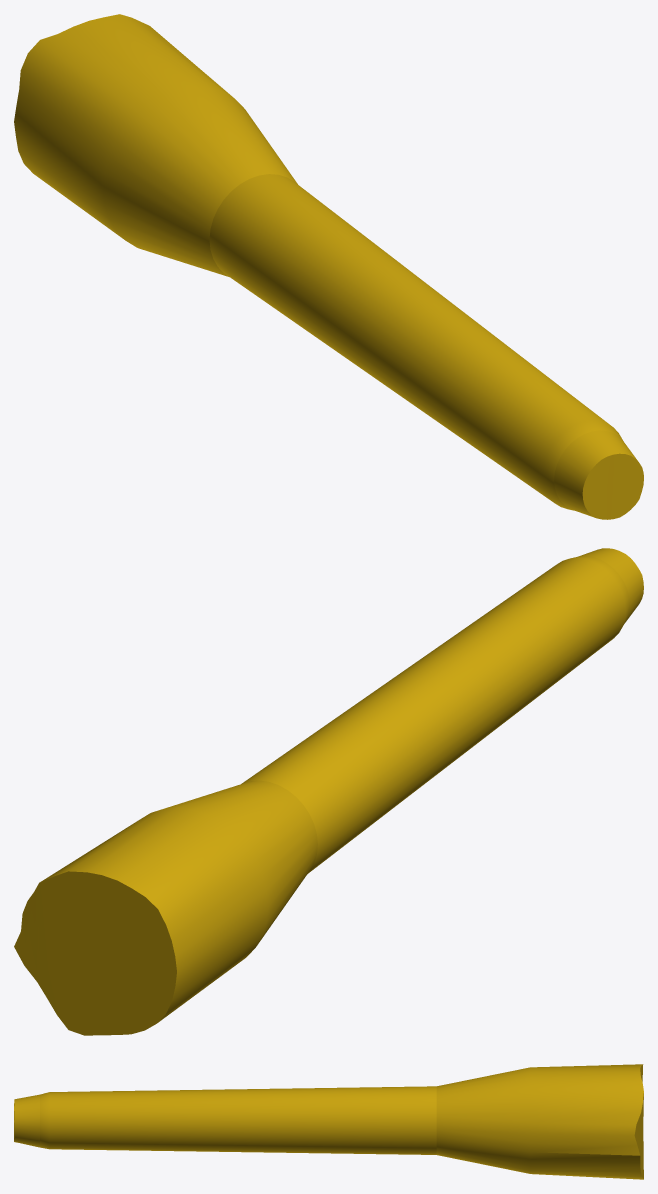
The picture shows the model from 3 angles, top to bottom: view 1: azimuth 30°, elevation 25°; view 2: azimuth 150°, elevation 25°; view 3: azimuth 270°, elevation 25°; orthographic projection. The views are drawn at different scales.
Bounding box in the file's own units: 0.1845 × 0.1744 × 1.
